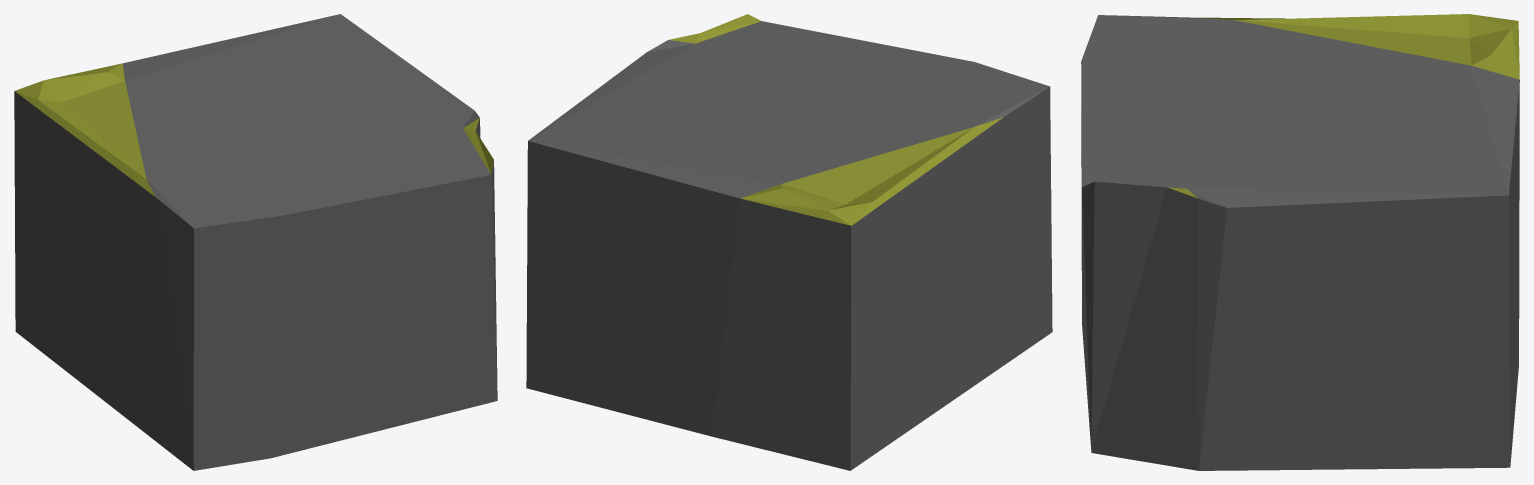
The model's file is tile_squared_moss_type_3_LOD3.fbx.
3 views of the same model, side by side, from view 1: azimuth 30°, elevation 25°; view 2: azimuth 150°, elevation 25°; view 3: azimuth 270°, elevation 25° (orthographic). The views are drawn at different scales.
Visible parts, largest first — view 1: tile_squared_moss_type_3; view 2: tile_squared_moss_type_3; view 3: tile_squared_moss_type_3.
Part boxes in pixels (x1,y1,x2,y2): tile_squared_moss_type_3: (14, 14, 497, 470); tile_squared_moss_type_3: (526, 14, 1052, 470); tile_squared_moss_type_3: (1081, 14, 1519, 470).
Bounding box in the file's own units: 116 × 81.81 × 116.
